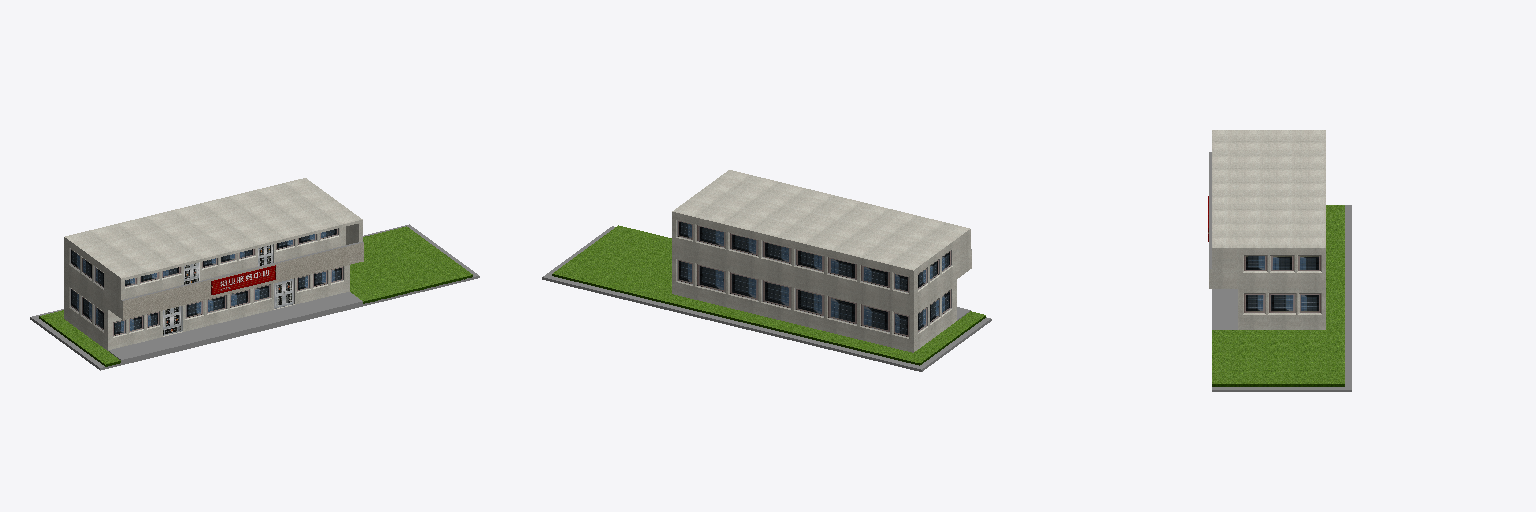
3 views of the same model, side by side, from view 1: azimuth 30°, elevation 25°; view 2: azimuth 150°, elevation 25°; view 3: azimuth 270°, elevation 25° (orthographic).
Parts seen in each view (by area): view 1: building_manage; view 2: building_manage; view 3: building_manage.
Boxes of the visible parts, x1,y1,x2,y2 form: building_manage: [30, 178, 479, 370]; building_manage: [542, 170, 991, 371]; building_manage: [1208, 130, 1351, 391].
Size of the model in its own units: 410 by 89.95 by 135.
10 materials, 8 textured.